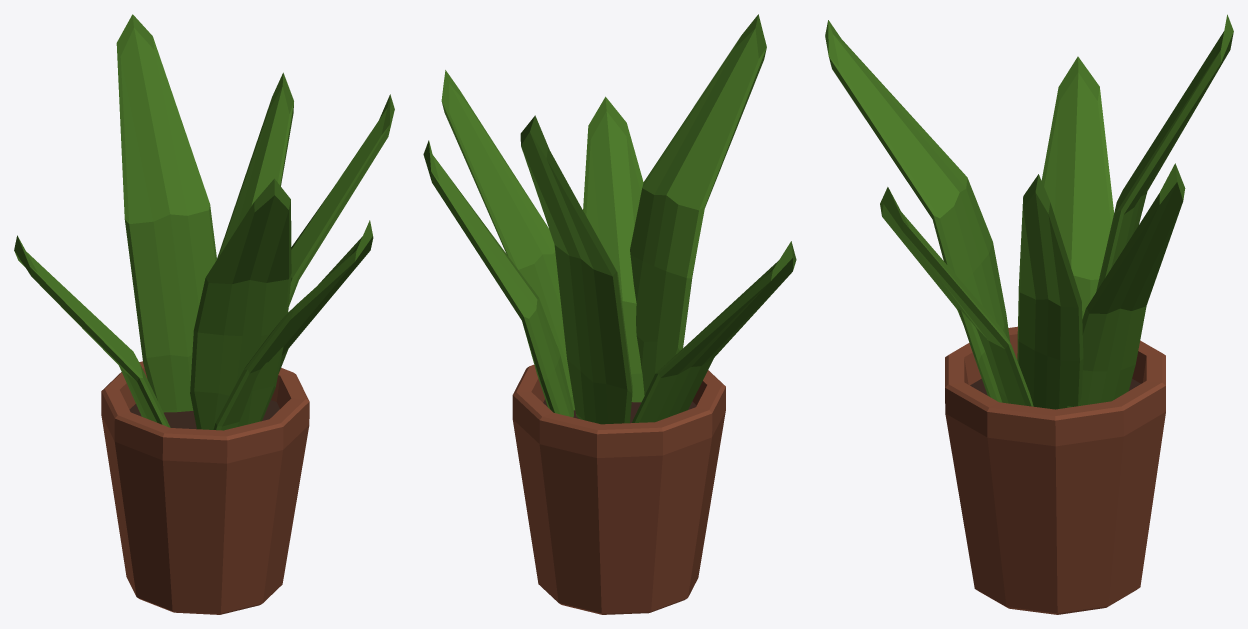
Rendered from green_potted.fbx.
3 renders of one model, left to right at view 1: azimuth 30°, elevation 25°; view 2: azimuth 150°, elevation 25°; view 3: azimuth 270°, elevation 25°, orthographic. The views are drawn at different scales.
Parts seen in each view (by area): view 1: flowerpot.002; view 2: flowerpot.002; view 3: flowerpot.002.
Part boxes in pixels (x1,y1,x2,y2): flowerpot.002: [14, 14, 394, 614]; flowerpot.002: [423, 14, 796, 614]; flowerpot.002: [825, 14, 1233, 614].
Size of the model in its own units: 58.68 by 79.71 by 51.89.
